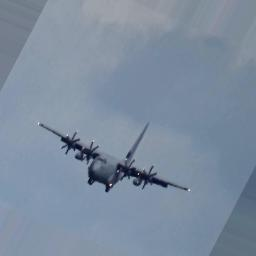Airplane: (37, 120, 192, 196)
